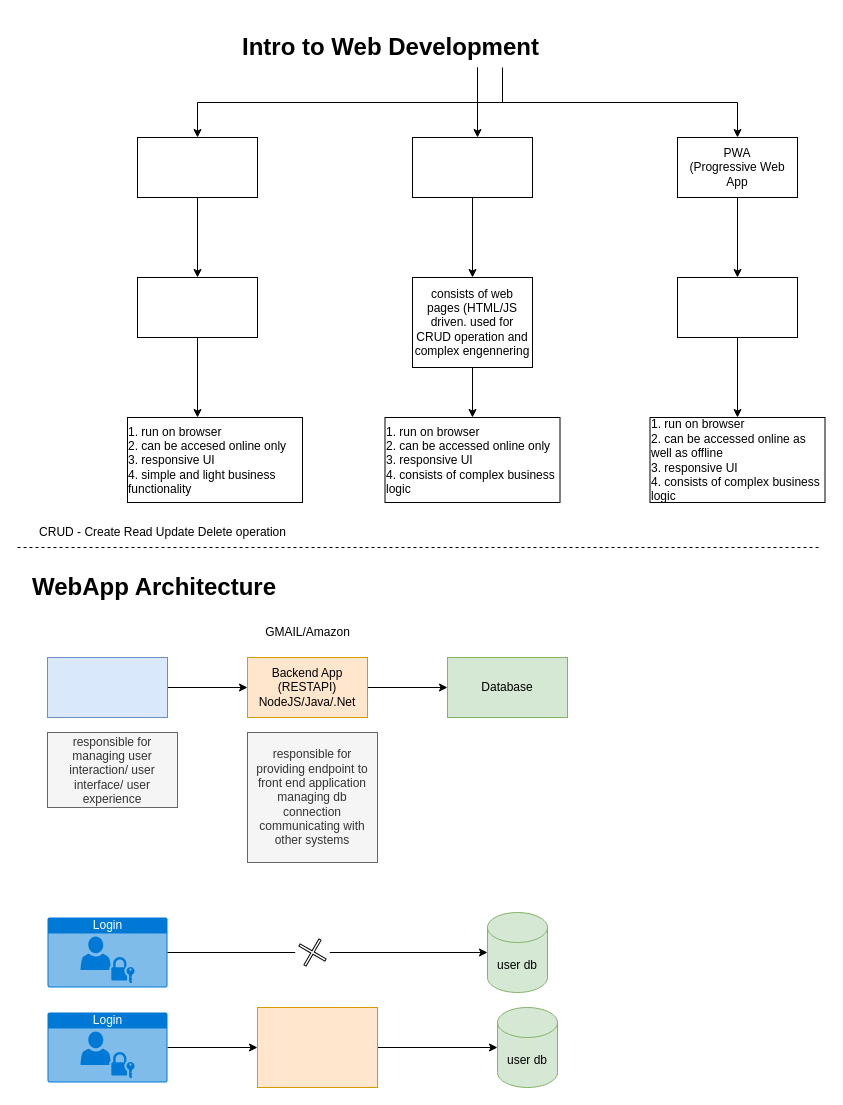
Image size: 843x1105. Some labels were removed from this diagram. Here are the shapes that lost their labels. From the top down, the centre of each, then its label:
At point 197,167: "Website".
At point 472,167: "WebApp".
At point 197,307: "Consists of web pages (HTML). used for only information rendering".
At point 737,307: "all features of webapp + some features of mobile app".
At point 107,687: "FrontEnd Application (HTML/CSS/JS) Angular/React/Vue".
At point 317,1047: "Backend App (RESTAPI) establish connection with db, and authenticate user".
